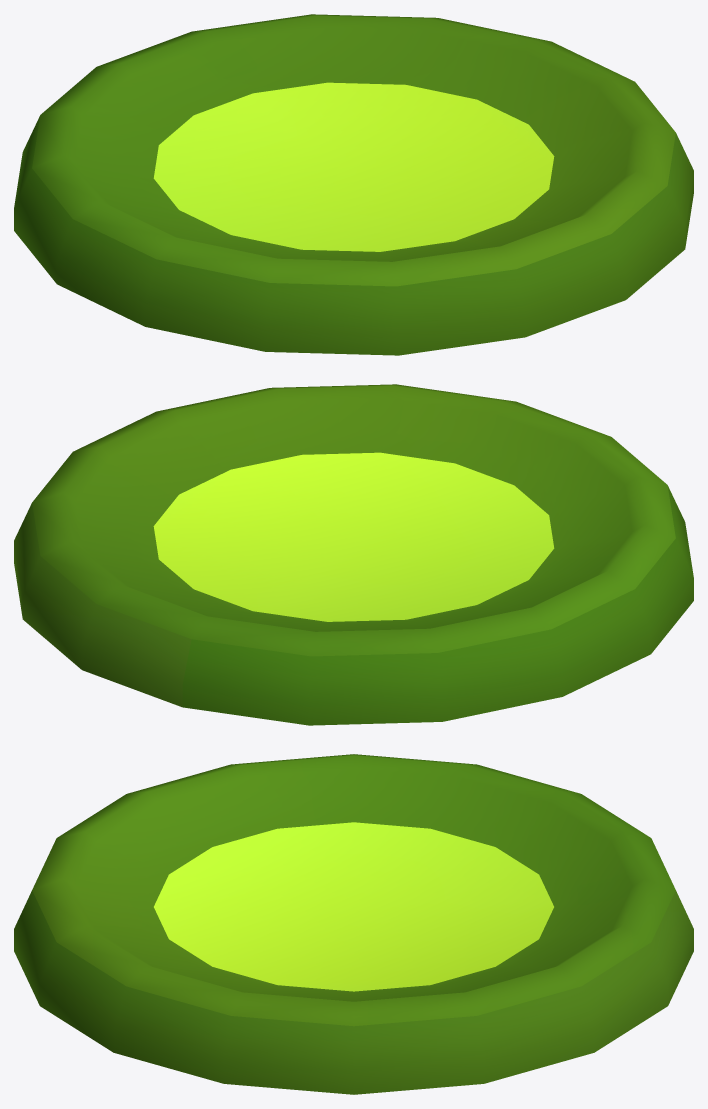
File: DogBedGreen.glb
3 views of the same model, one above another, from view 1: azimuth 30°, elevation 25°; view 2: azimuth 150°, elevation 25°; view 3: azimuth 270°, elevation 25° (orthographic).
Visible parts, largest first — view 1: DogBedGreen; view 2: DogBedGreen; view 3: DogBedGreen.
Part boxes in pixels (<box>): DogBedGreen: <box>14,14,693,355</box>; DogBedGreen: <box>14,384,693,725</box>; DogBedGreen: <box>14,754,693,1094</box>.
Bounding box in the file's own units: 2 × 0.2348 × 2.
Materials: 1 (1 with a texture image).
